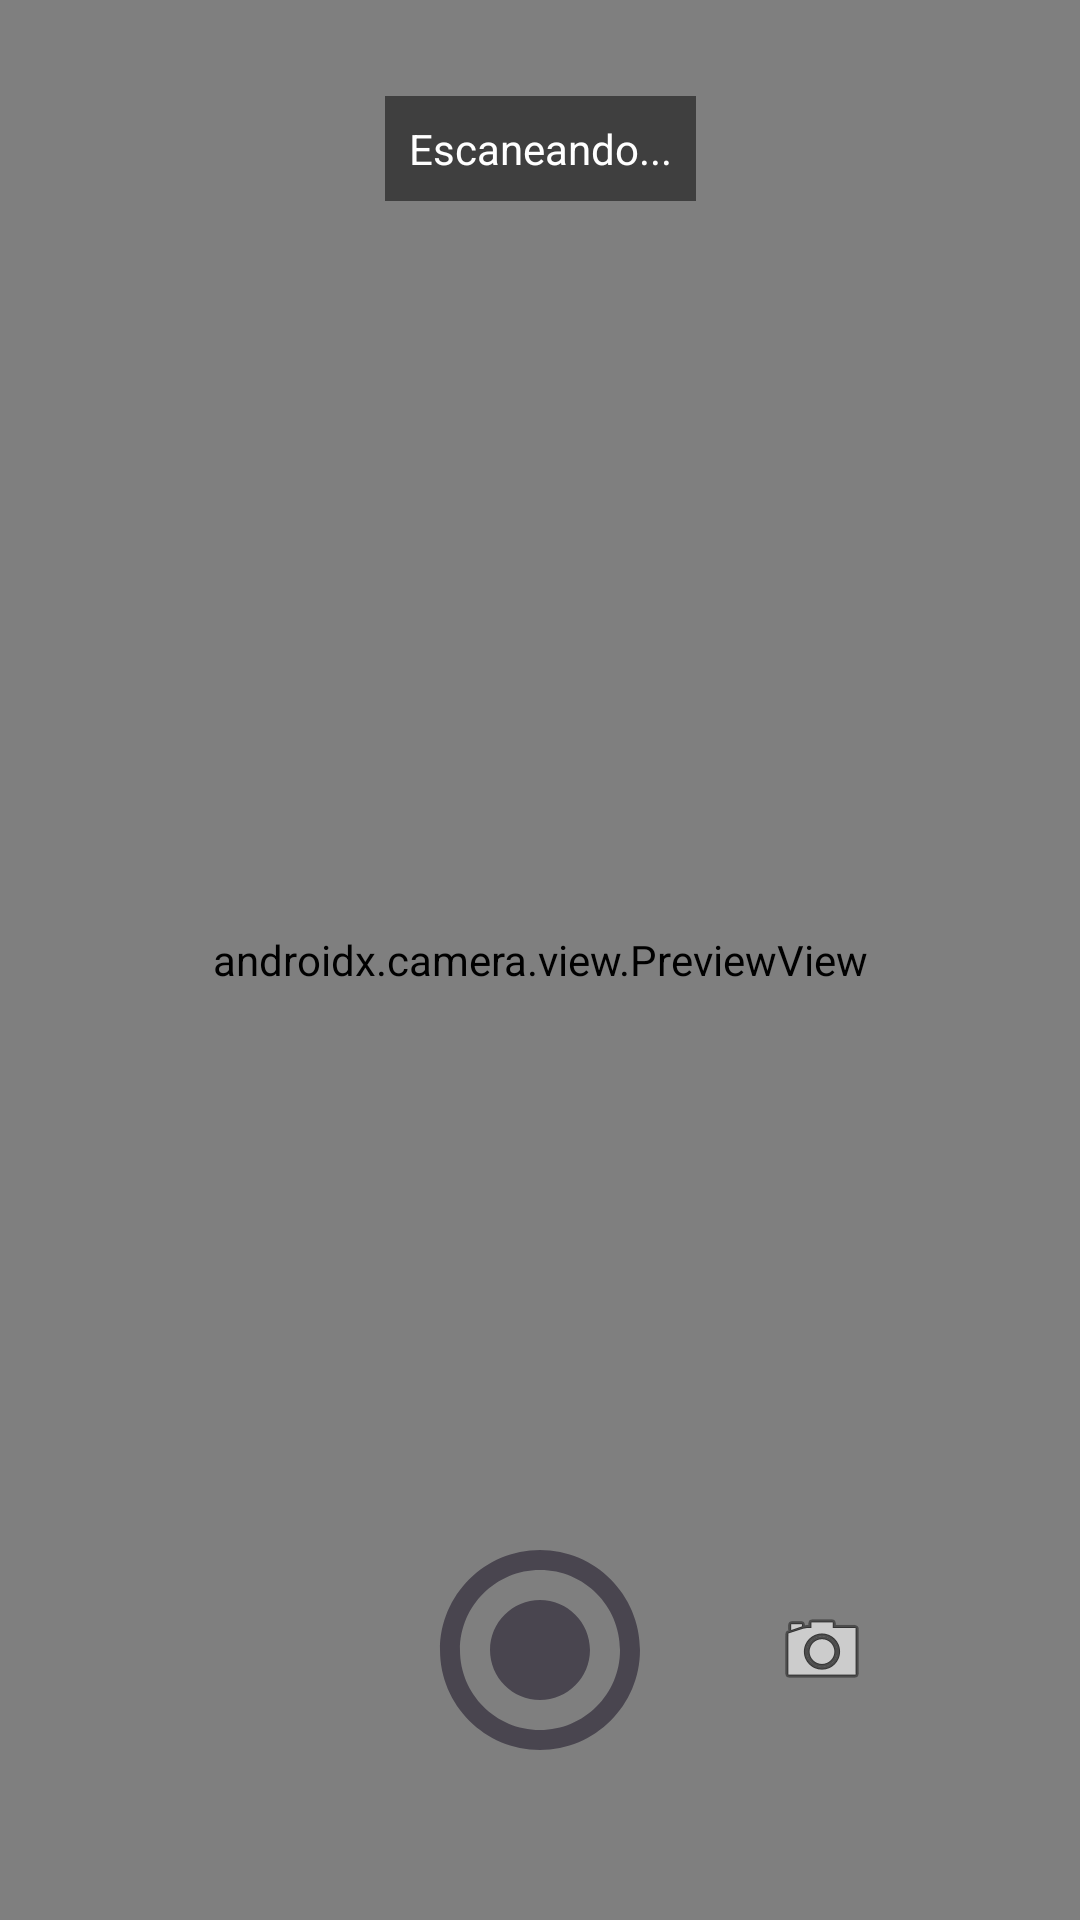

Where to tap for icons on this 1080 × 1920 app screen, as point (x, y):
Cambiar camara: point (822, 1648)
radio checked: point (540, 1650)
